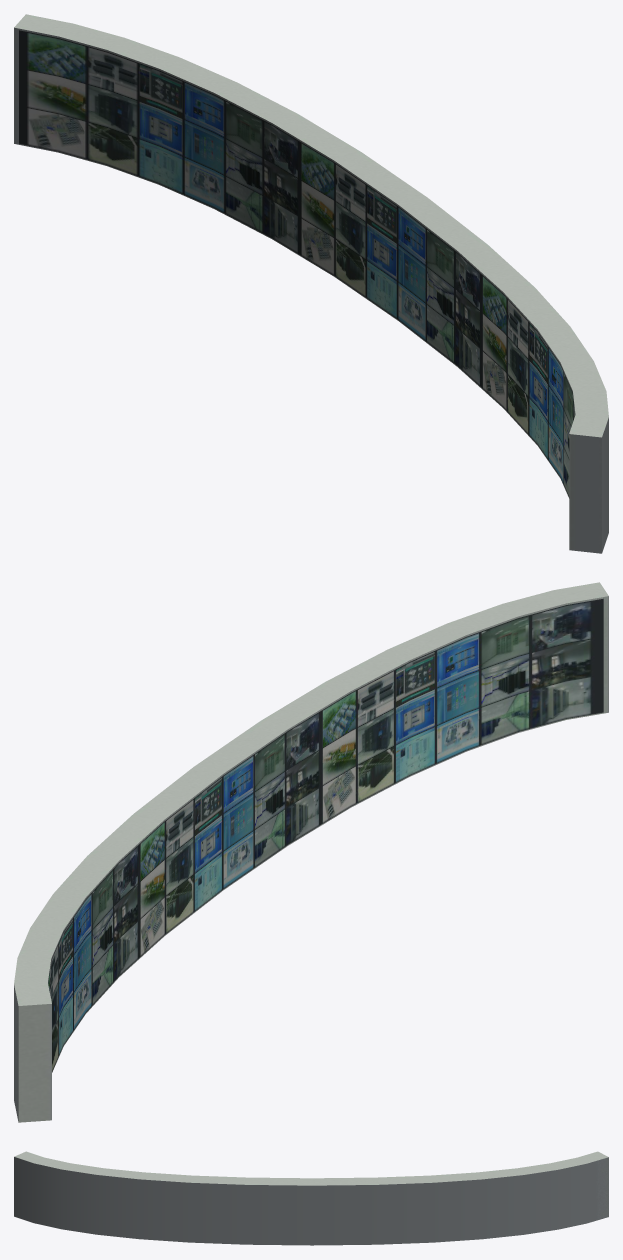
File: pingmu.obj
3 renders of one model, top to bottom at view 1: azimuth 30°, elevation 25°; view 2: azimuth 150°, elevation 25°; view 3: azimuth 270°, elevation 25°, orthographic. The views are drawn at different scales.
Parts seen in each view (by area): view 1: Ellipse03; view 2: Ellipse03; view 3: Ellipse03.
Boxes of the visible parts, x1,y1,x2,y2 form: Ellipse03: (14,14,608,553); Ellipse03: (14,582,608,1122); Ellipse03: (14,1151,608,1245).
Bounding box in the file's own units: 278 × 227 × 2048.
1 material, 1 textured.
